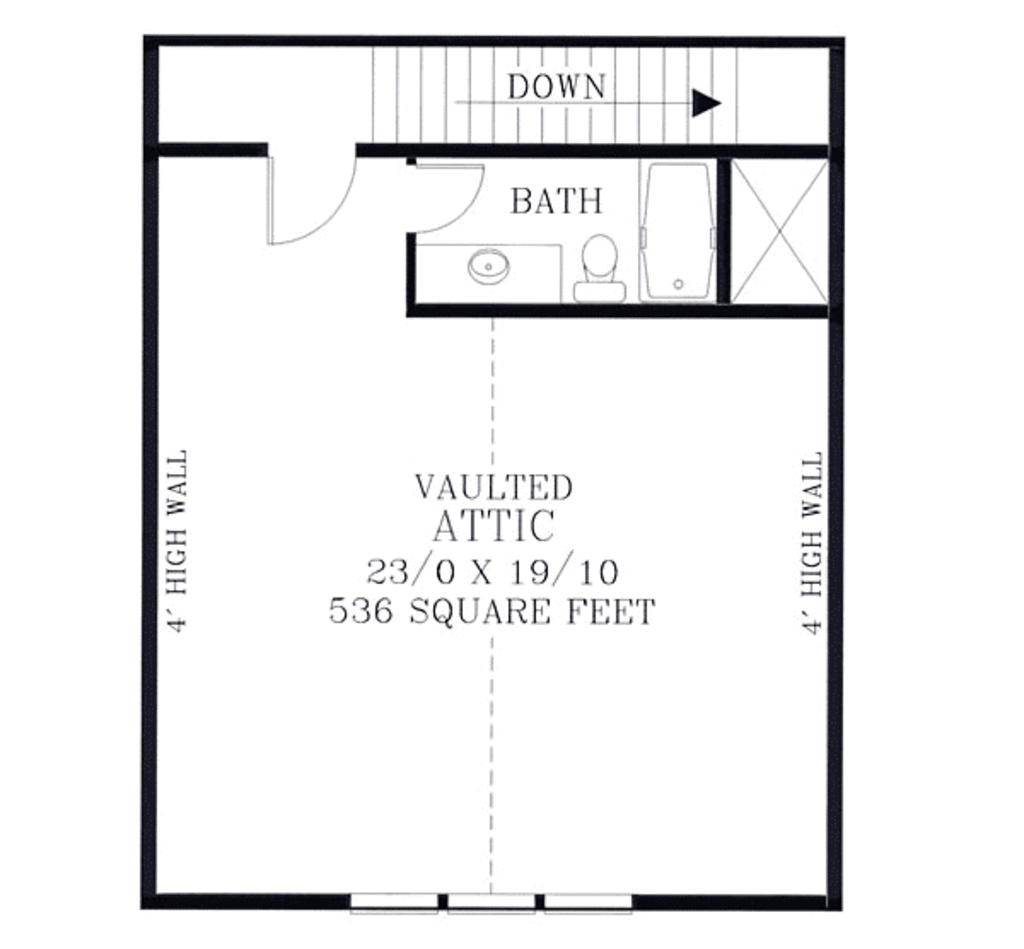door: (268, 143, 360, 252), (398, 148, 499, 237)
large_sink: (566, 230, 620, 306)
small_sink: (424, 249, 557, 307)
stairs: (352, 30, 753, 146)
tub: (634, 155, 717, 303)
window: (346, 881, 444, 911), (547, 885, 637, 913), (453, 885, 537, 913)
